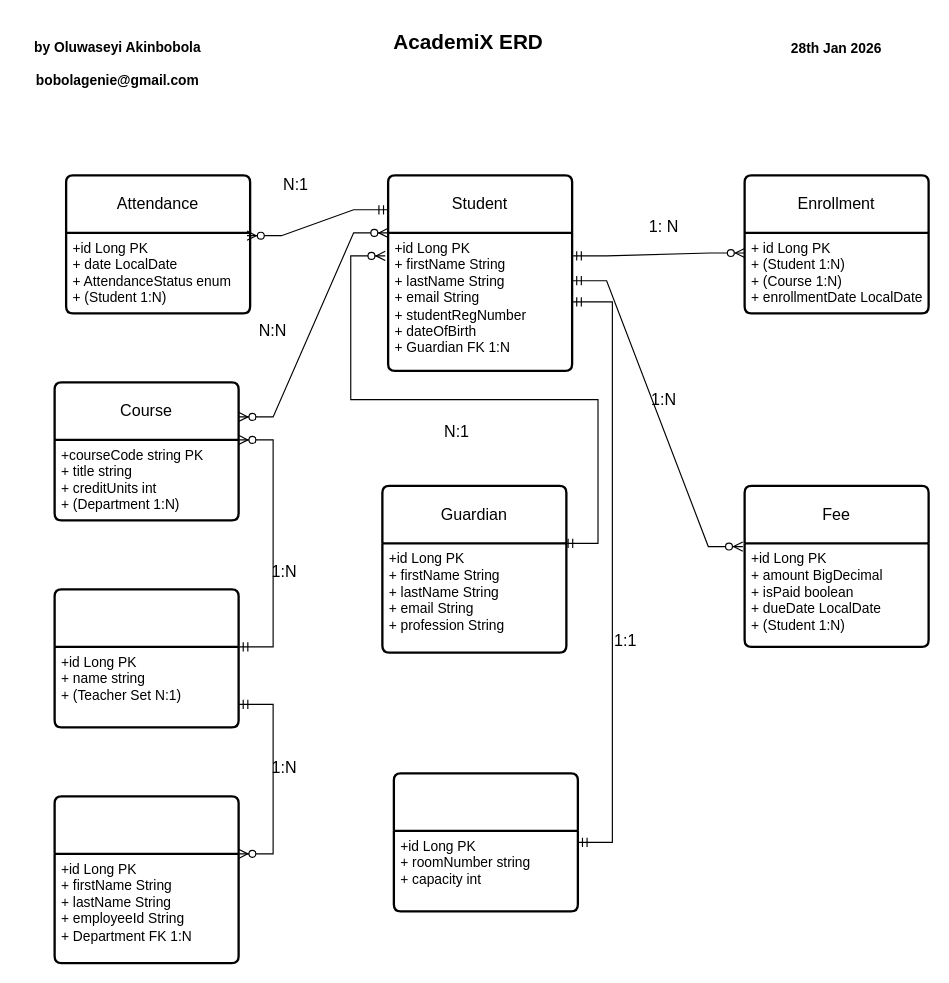
This 949x983 diagram has some shape labels left out. Each missing label, with the box of its shape:
Classroom: (392, 772, 578, 912)
Department: (53, 588, 239, 728)
Teacher: (53, 795, 239, 964)
